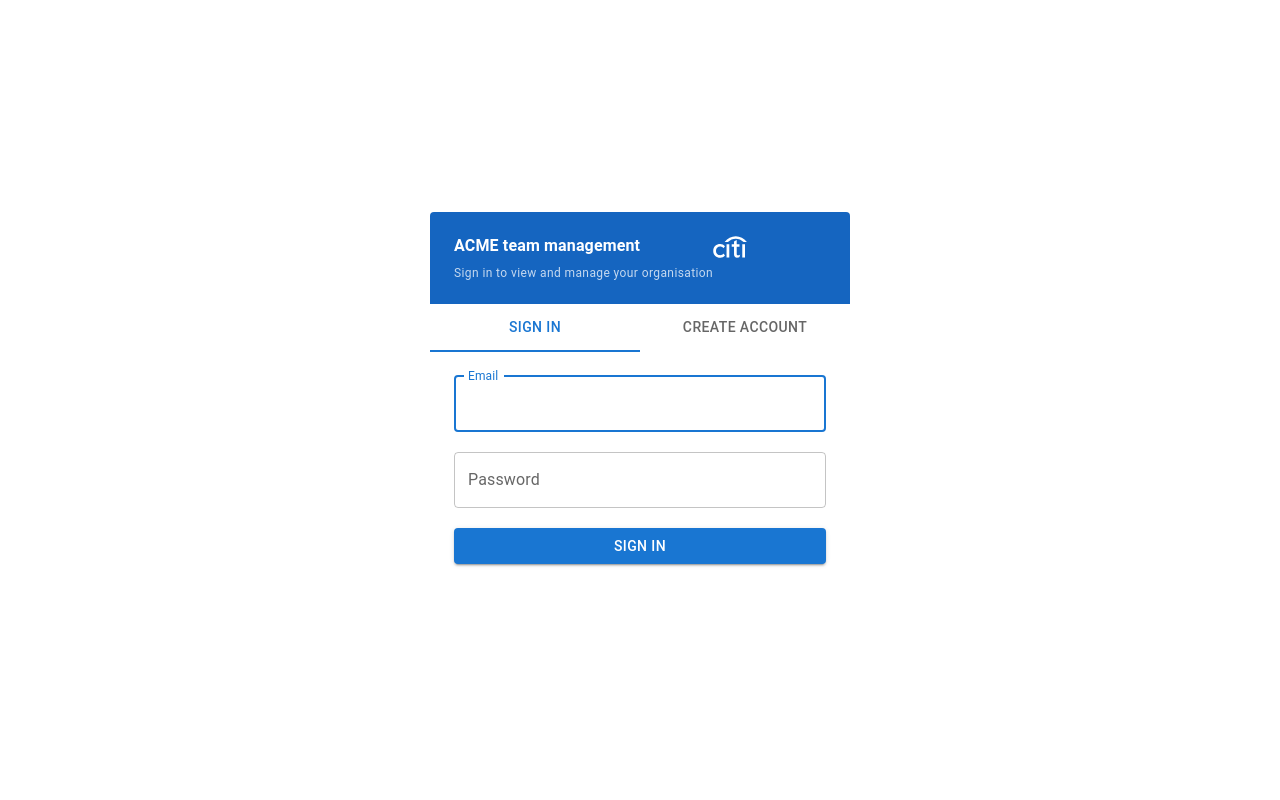
Test case: the sign in form › shows the server's message when credentials are wrong
The width and height of the screenshot is (1280, 800).
Type "sasha@acme.com" into the field labelled "Email" at (640, 404), box [454,376,826,432]
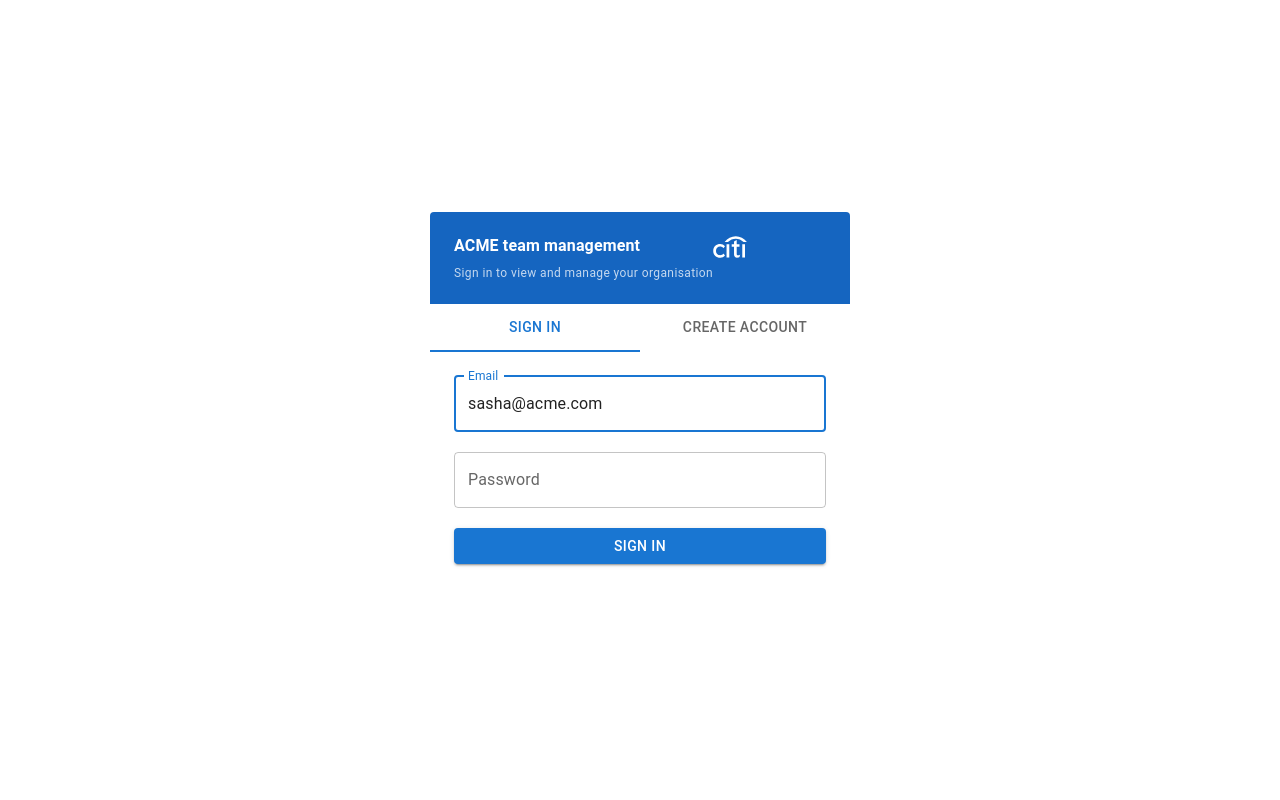
Type "wrong" into the password field labelled "Password" at (640, 480), box [454,452,826,508]
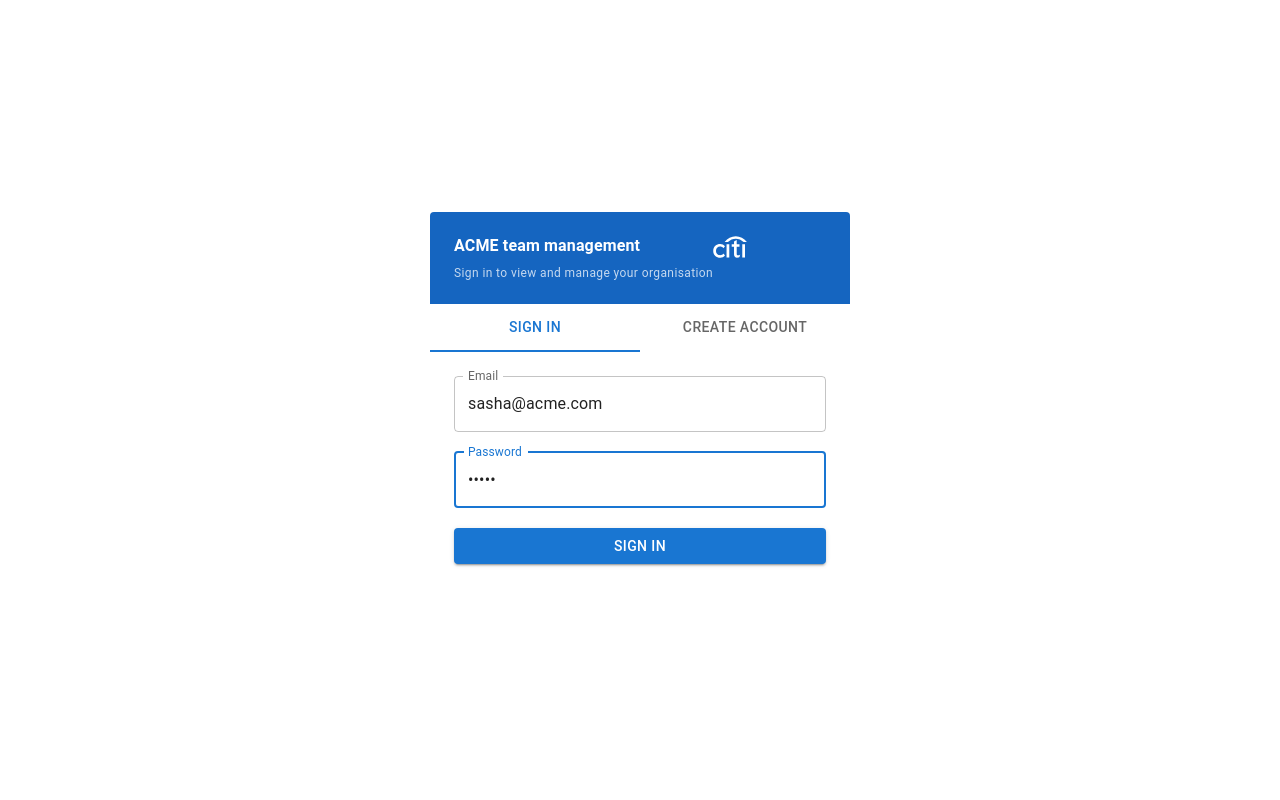
Click the button "Sign in" at (640, 546), box [454,528,826,564]
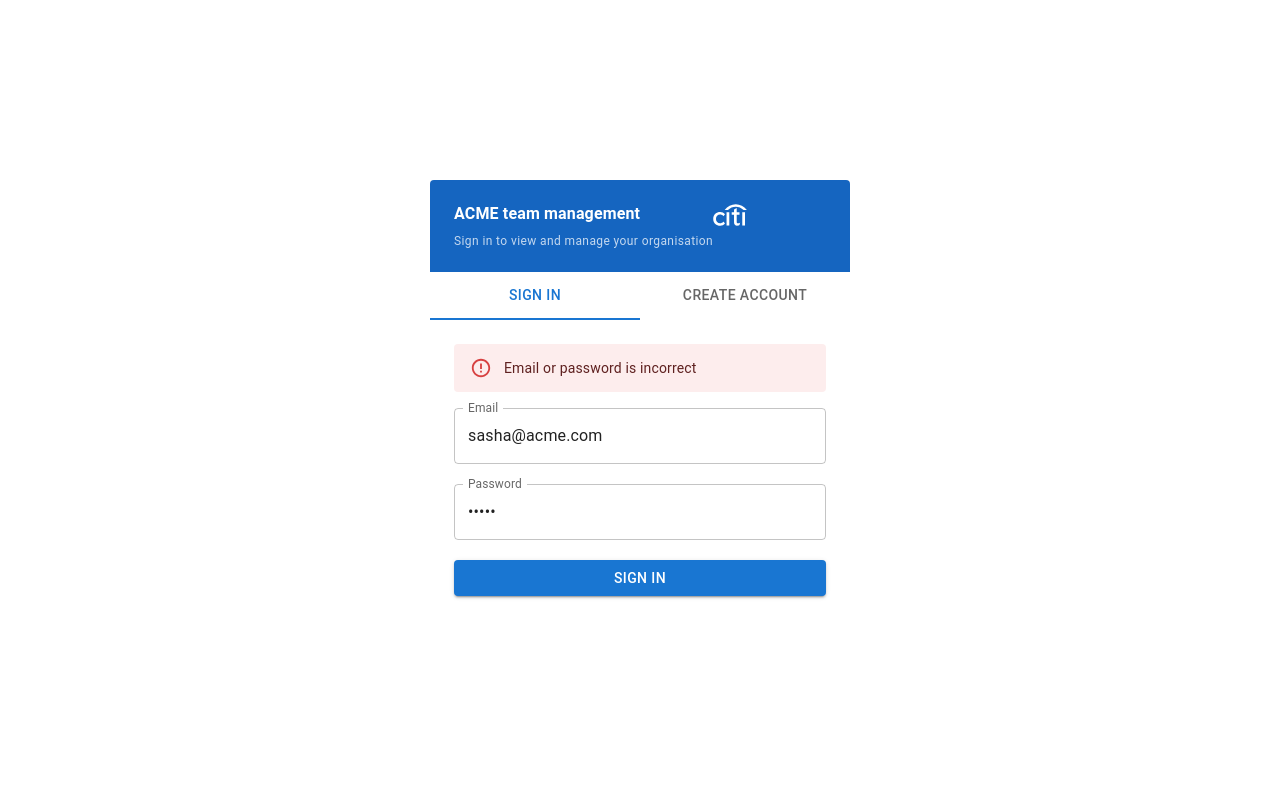
expect the text "Email or password is incorrect" is shown: met, box [504,360,696,376]
